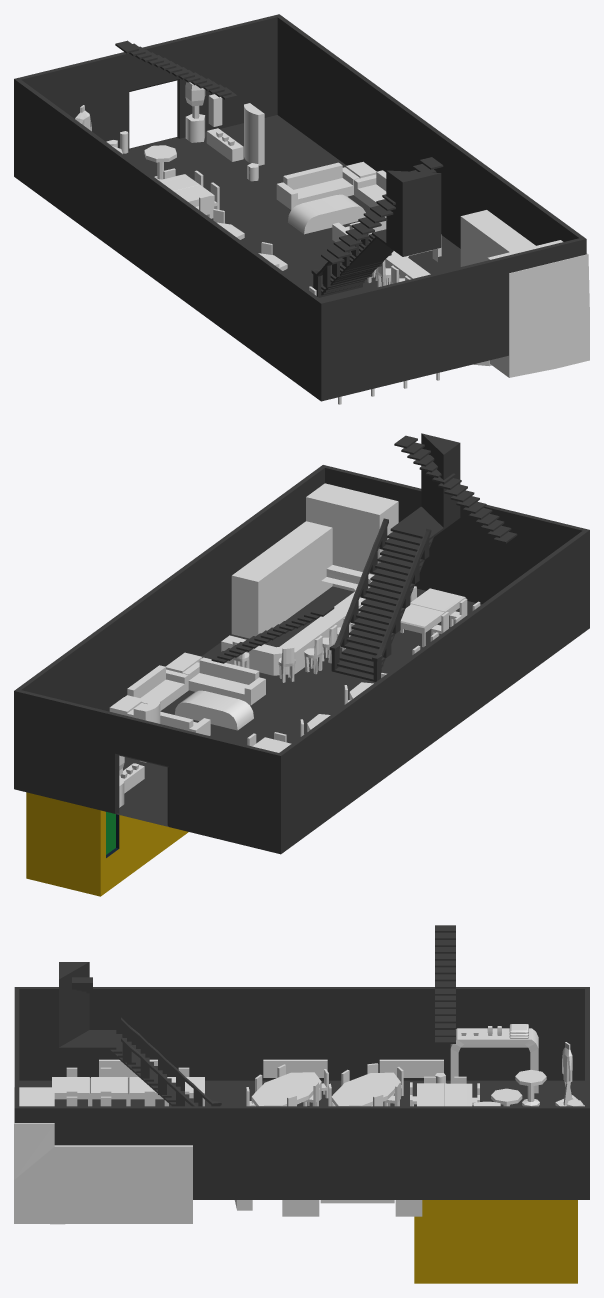
File: level_Basment (1).FBX
The picture shows the model from 3 angles, top to bottom: view 1: azimuth 30°, elevation 25°; view 2: azimuth 150°, elevation 25°; view 3: azimuth 270°, elevation 25°; orthographic projection. The views are drawn at different scales.
Visible parts, largest first — view 1: Floor2.1, Box038, Object002, Stairs 2.001, Stair, Box031, Box039, Box003, Box005, Gebouw001, Box009, Box032 (+2 smaller); view 2: Floor2.1, Box038, Box006, Stair, Stairs 2.001, Object002, Box037, Box033, Box039, Box034, Box032, Box031; view 3: Floor2.1, Box038, Box006, Object002, Stair, Stairs 2.001, Box034, Box008, Cylinder008, Cylinder007, Box009, Cylinder006 (+9 smaller).
Boxes of the visible parts, x1,y1,x2,y2 form: Floor2.1: [14, 14, 586, 401]; Box038: [460, 210, 589, 377]; Object002: [372, 170, 441, 256]; Stairs 2.001: [115, 40, 443, 264]; Stair: [311, 233, 393, 297]; Box031: [276, 162, 359, 209]; Box039: [288, 194, 365, 234]; Box003: [206, 94, 243, 161]; Box005: [244, 103, 264, 165]; Gebouw001: [185, 82, 205, 142]; Box009: [159, 174, 214, 218]; Box032: [354, 170, 386, 207]; Floor2.1: [14, 465, 589, 854]; Box038: [231, 483, 398, 638]; Box006: [26, 792, 188, 896]; Stair: [329, 518, 433, 681]; Stairs 2.001: [211, 435, 517, 663]; Object002: [390, 433, 460, 540]; Box037: [221, 565, 374, 675]; Box033: [182, 657, 265, 705]; Box039: [174, 690, 253, 730]; Box034: [400, 588, 465, 647]; Box032: [125, 665, 188, 710]; Box031: [127, 703, 210, 735]; Floor2.1: [14, 987, 589, 1199]; Box038: [14, 1087, 192, 1223]; Box006: [414, 1200, 577, 1283]; Object002: [59, 962, 116, 1049]; Stair: [108, 1017, 221, 1106]; Stairs 2.001: [72, 925, 455, 1043]; Box034: [52, 1077, 204, 1106]; Box008: [450, 1028, 538, 1093]; Cylinder008: [251, 1072, 321, 1106]; Cylinder007: [331, 1072, 400, 1106]; Box009: [417, 1083, 472, 1106]; Cylinder006: [491, 1070, 546, 1106].
Bounding box in the file's own units: 763 × 733 × 1512.
